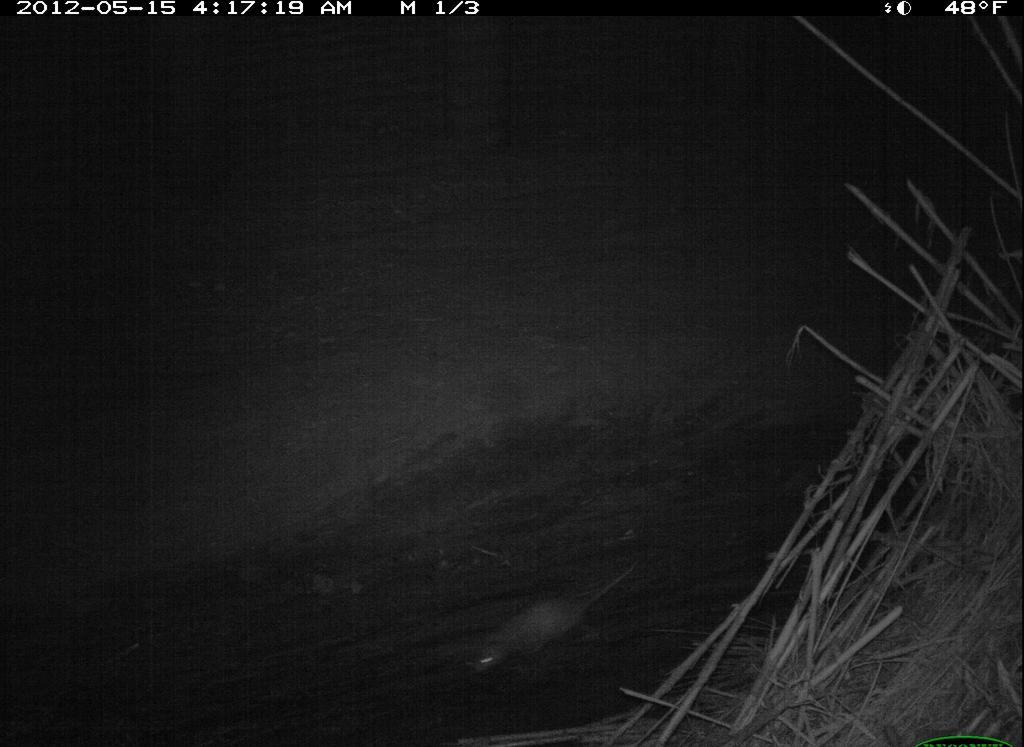opossum: (447, 551, 648, 687)
